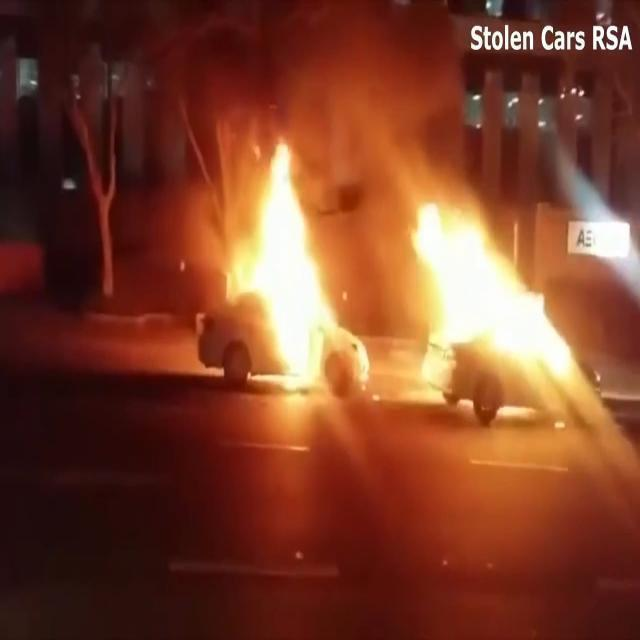fire: (410, 198, 570, 372), (240, 148, 324, 364)
